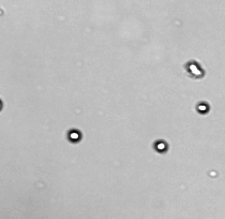Living Cell: (185, 60, 205, 78), (154, 139, 168, 153), (67, 130, 82, 143), (196, 101, 209, 114)
